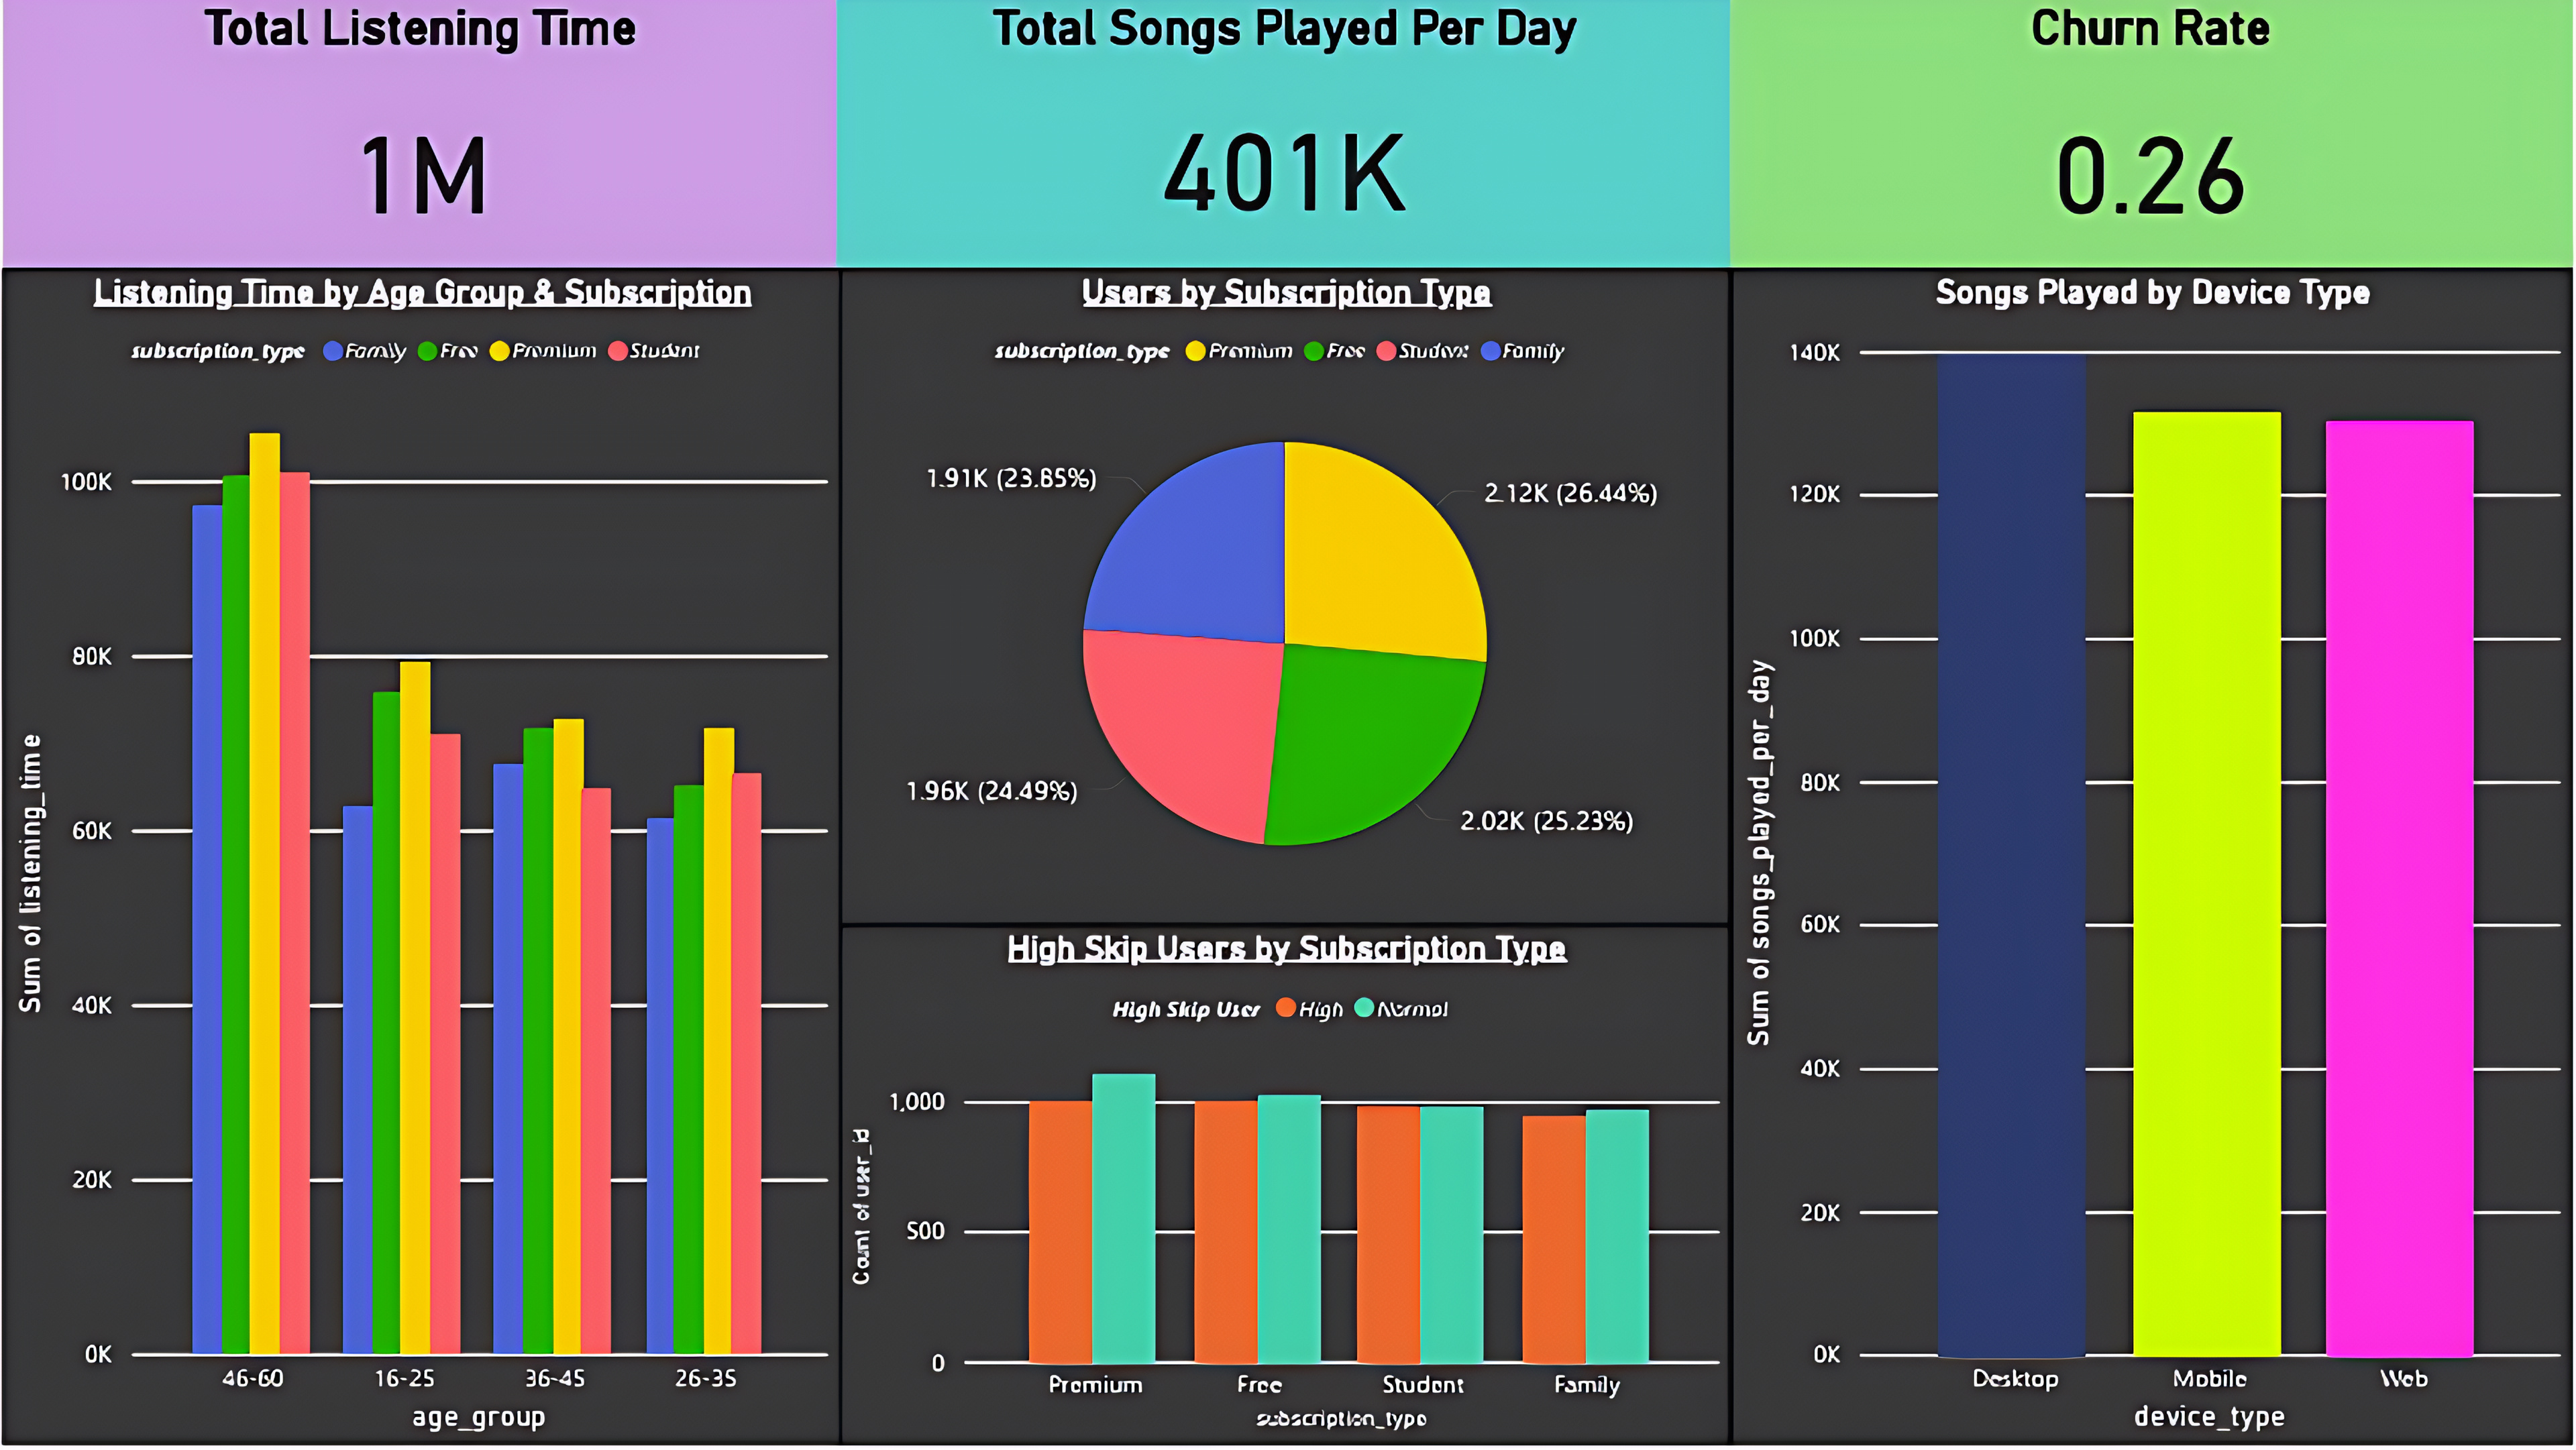

This screenshot's page, from the dashboard's own definition file:
{"tool":"powerbi","page":{"name":"Page 1","canvas":[1280,720],"ordinal":0},"visuals":[{"type":"card","title":"Total Listening Time","fields":{"Values":["Sum(public fact_user_activity.listening_time)"]},"box":[0,0,416.7,134.3],"z":0},{"type":"card","title":"Total Songs Played Per Day","fields":{"Values":["Sum(public fact_user_activity.songs_played_per_day)"]},"box":[416.7,0,444.1,134.3],"z":1000},{"type":"card","title":"Churn Rate ","fields":{"Values":["public dim_device.Churn Rate"]},"box":[860.8,0,419.2,134.3],"z":2000},{"type":"clusteredColumnChart","title":"Listening Time by Age Group & Subscription","fields":{"Category":["public dim_user.age_group"],"Y":["Sum(public fact_user_activity.listening_time)"],"Series":["public fact_user_activity.subscription_type"]},"box":[0,134.3,416.7,585.9],"z":3000},{"type":"columnChart","title":"Songs Played by Device Type","fields":{"Y":["Sum(public fact_user_activity.songs_played_per_day)"],"Category":["public dim_device.device_type"]},"box":[860.8,134.3,419.2,585.9],"z":4000},{"type":"clusteredColumnChart","title":"High Skip Users by Subscription Type","fields":{"Category":["public dim_subscription.subscription_type"],"Series":["public fact_user_activity.High Skip User"],"Y":["CountNonNull(public fact_user_activity.user_id)"]},"box":[416.7,461.5,444.1,258.7],"z":5000},{"type":"pieChart","title":"Users by Subscription Type","fields":{"Category":["public dim_subscription.subscription_type"],"Y":["CountNonNull(public fact_user_activity.user_id)"]},"box":[416.7,134.3,444.1,327.2],"z":6000}]}

Visuals, with their boxes in screenshot pixels (x1, y1, x2, y2), scaled from the page's 1280x720 canvas onto the 2576x1450 screenshot:
"Total Listening Time" card: {"left": 0, "top": 0, "right": 839, "bottom": 270}
"Total Songs Played Per Day" card: {"left": 839, "top": 0, "right": 1732, "bottom": 270}
"Churn Rate " card: {"left": 1732, "top": 0, "right": 2575, "bottom": 270}
"Listening Time by Age Group & Subscription" clusteredColumnChart: {"left": 0, "top": 270, "right": 839, "bottom": 1449}
"Songs Played by Device Type" columnChart: {"left": 1732, "top": 270, "right": 2575, "bottom": 1449}
"High Skip Users by Subscription Type" clusteredColumnChart: {"left": 839, "top": 930, "right": 1732, "bottom": 1449}
"Users by Subscription Type" pieChart: {"left": 839, "top": 270, "right": 1732, "bottom": 930}
